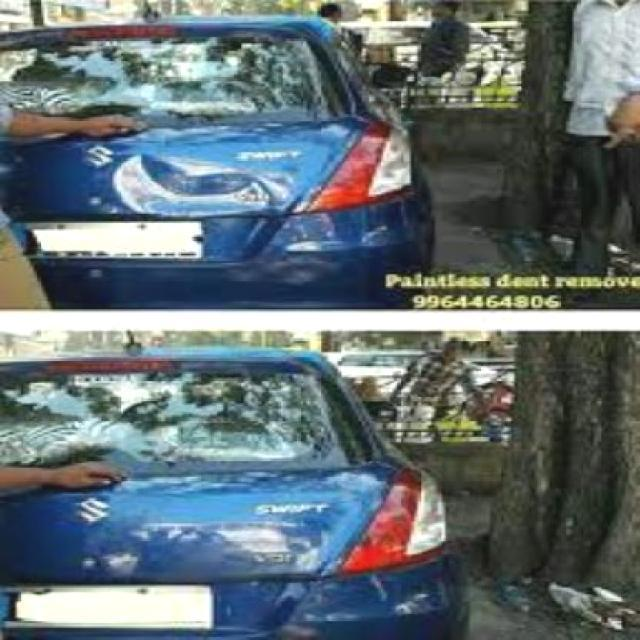minor: (114, 155, 282, 222)
